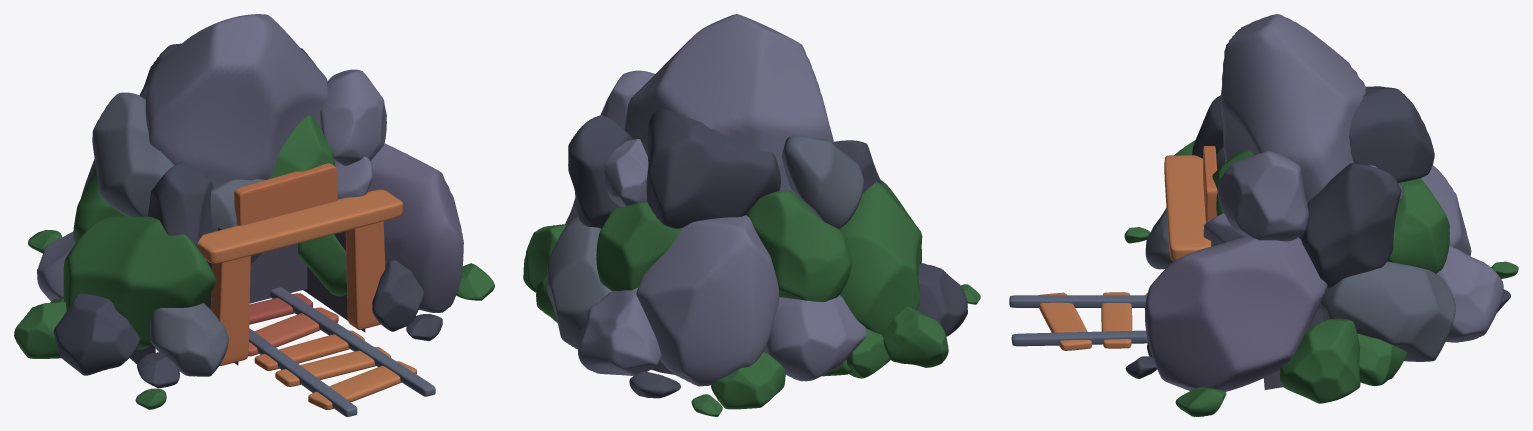
Rendered from peshera2.fbx.
3 renders of one model, left to right at view 1: azimuth 30°, elevation 25°; view 2: azimuth 150°, elevation 25°; view 3: azimuth 270°, elevation 25°, orthographic.
Visible parts, largest first — view 1: Cube.003, Cube.004, Cube.005, Cube, Cube.032, Cube.001, Cube.031, Cube.012, Cube.010, Cube.018, Cube.002, Cube.008 (+20 smaller); view 2: Cube.003, Cube.006, Cube.030, Cube.004, Cube.028, Cube.011, Cube.027, Cube.032, Cube.007, Cube.026, Cube.029, Cube.038 (+10 smaller); view 3: Cube.005, Cube.003, Cube.007, Cube.029, Cube.031, Cube.030, Cube.014, Cube.026, Cube.027, Cube.001, Cube.018, Cube.034 (+10 smaller).
Part boxes in pixels (<box>): Cube.003: <box>145,14,327,264</box>; Cube.004: <box>63,216,215,349</box>; Cube.005: <box>368,143,463,312</box>; Cube: <box>210,221,385,365</box>; Cube.032: <box>92,92,174,216</box>; Cube.001: <box>197,189,403,263</box>; Cube.031: <box>320,69,386,165</box>; Cube.012: <box>53,293,140,375</box>; Cube.010: <box>150,303,228,376</box>; Cube.018: <box>249,287,435,416</box>; Cube.002: <box>234,163,337,225</box>; Cube.008: <box>147,162,213,247</box>; Cube.003: <box>624,14,833,194</box>; Cube.006: <box>636,215,779,386</box>; Cube.030: <box>646,109,780,228</box>; Cube.004: <box>839,179,922,334</box>; Cube.028: <box>746,190,851,301</box>; Cube.011: <box>765,295,866,381</box>; Cube.027: <box>578,287,661,375</box>; Cube.032: <box>782,135,863,228</box>; Cube.007: <box>546,215,611,349</box>; Cube.026: <box>596,202,681,291</box>; Cube.029: <box>568,115,632,228</box>; Cube.038: <box>882,306,948,367</box>; Cube.005: <box>1145,236,1327,391</box>; Cube.003: <box>1221,14,1366,238</box>; Cube.007: <box>1318,261,1455,361</box>; Cube.029: <box>1300,163,1401,288</box>; Cube.031: <box>1217,151,1308,241</box>; Cube.030: <box>1349,86,1434,182</box>; Cube.014: <box>1280,318,1360,403</box>; Cube.026: <box>1387,178,1449,273</box>; Cube.027: <box>1436,246,1503,342</box>; Cube.001: <box>1164,155,1211,260</box>; Cube.018: <box>1009,295,1147,346</box>; Cube.034: <box>1357,333,1406,386</box>.
Bounding box in the file's own units: 672 × 481 × 700.
